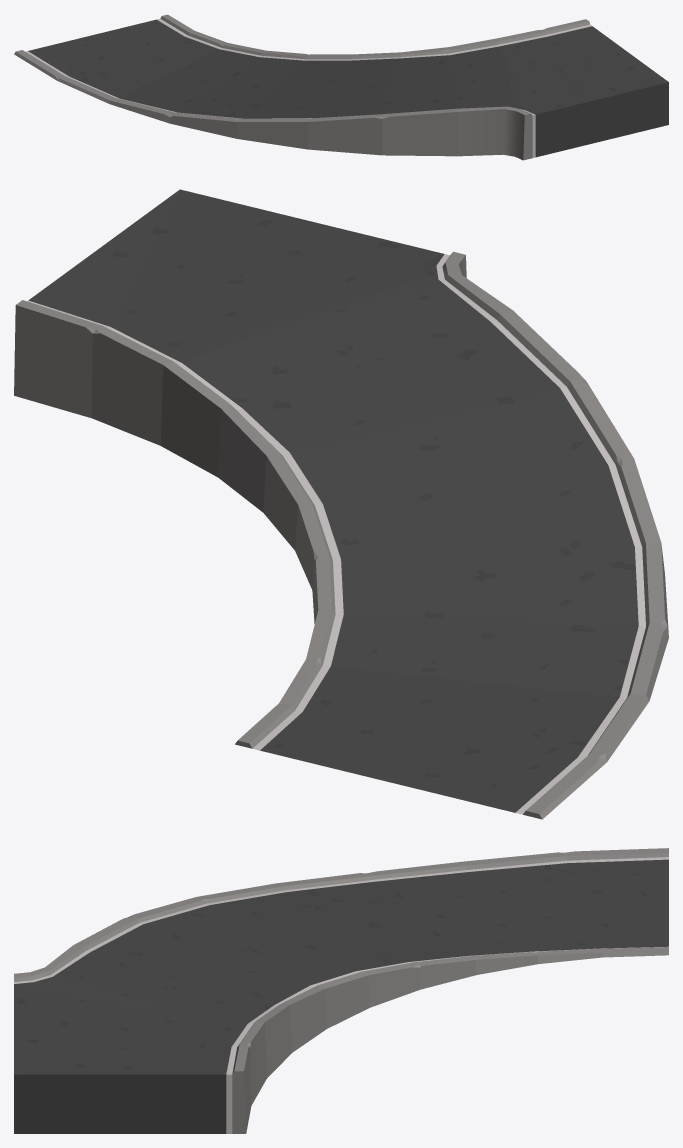
File: SM_Env_Road_Circle_Entrance_Slope_01.fbx
3 views of the same model, one above another, from view 1: azimuth 30°, elevation 25°; view 2: azimuth 150°, elevation 25°; view 3: azimuth 270°, elevation 25° (orthographic). The views are drawn at different scales.
Parts seen in each view (by area): view 1: SM_Env_Road_Circle_Entrance_Slope_01; view 2: SM_Env_Road_Circle_Entrance_Slope_01; view 3: SM_Env_Road_Circle_Entrance_Slope_01.
Boxes of the visible parts, x1=… form: SM_Env_Road_Circle_Entrance_Slope_01: x1=14, y1=14, x2=668, y2=160; SM_Env_Road_Circle_Entrance_Slope_01: x1=14, y1=189, x2=668, y2=819; SM_Env_Road_Circle_Entrance_Slope_01: x1=14, y1=848, x2=668, y2=1133.
Bounding box in the file's own units: 1537 × 159 × 1500.
